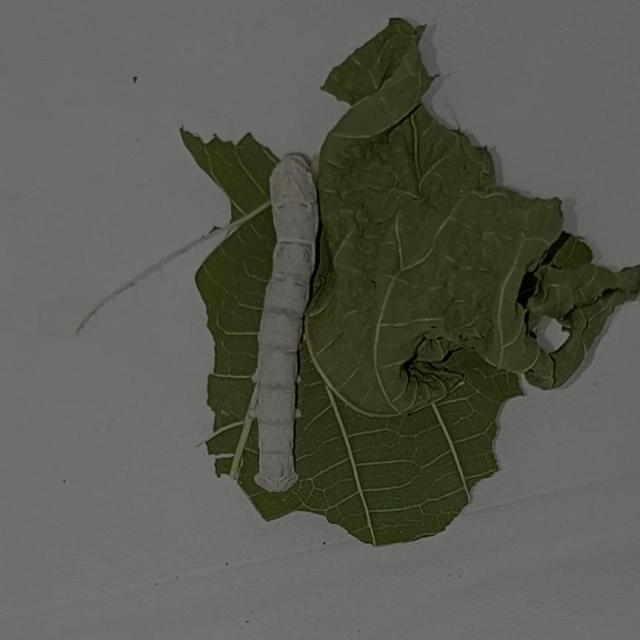Healthy: (230, 141, 337, 496)
